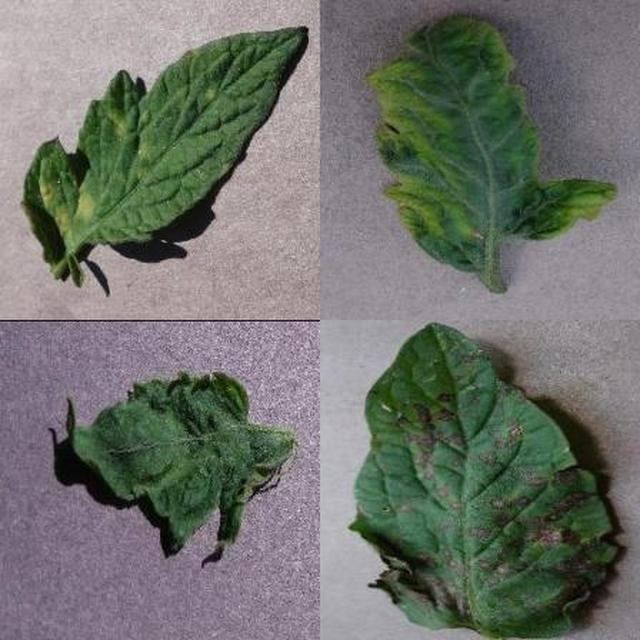Leaf Mold: (236, 204, 640, 640)
